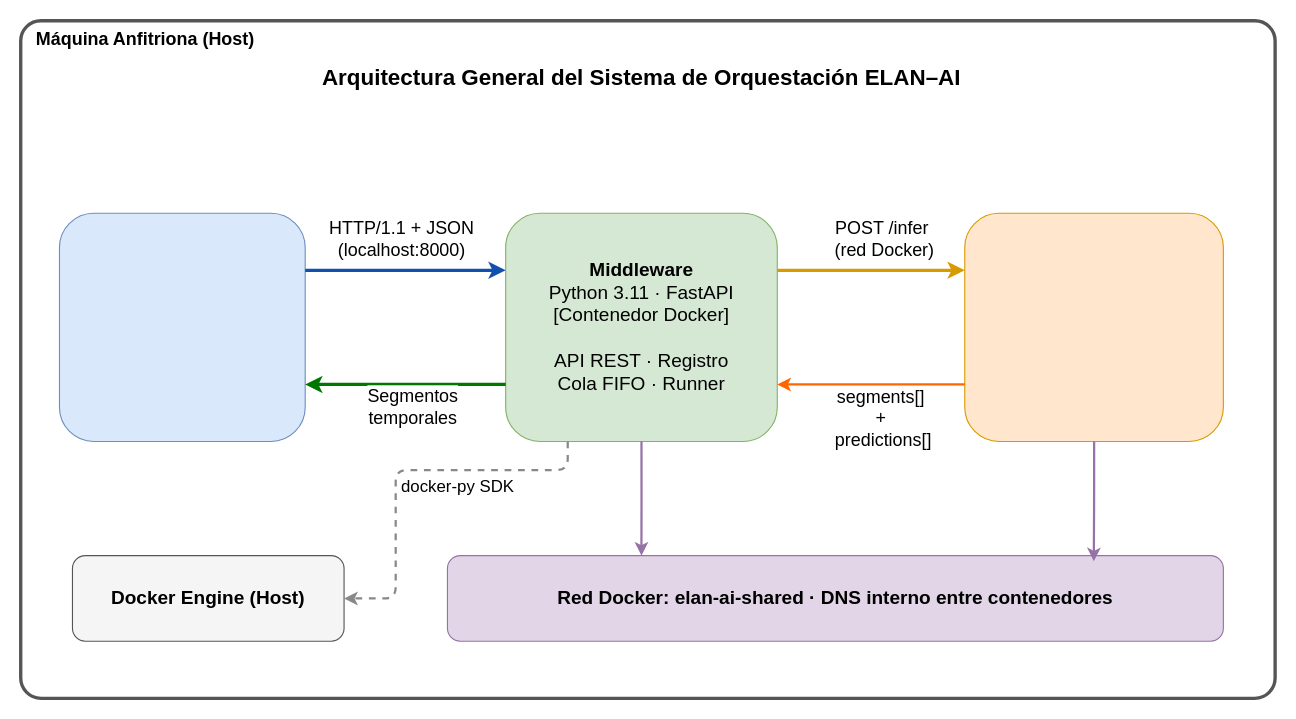
Some shapes in this 1296 by 719 pixel diagram are drawn without their labels. Here are the shapes that lost their labels. From the top down, the centre of each, then its label:
At point (181, 327): "ELAN 7.1 Java 11 Cliente de anotación (Protocolo AVATecH)".
At point (1093, 327): "Contenedor Modelo Docker · Python Pipeline IA (LSEc) GET /health · POST /infer".
